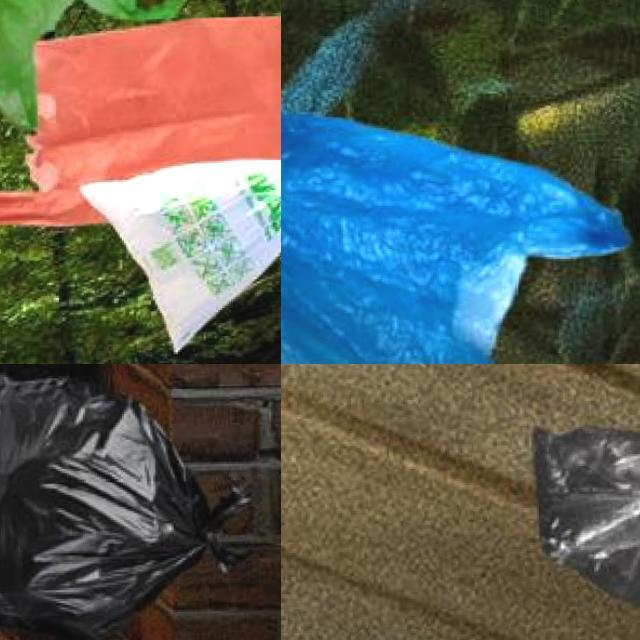waste: (281, 92, 632, 364), (0, 364, 232, 640), (80, 154, 281, 353), (0, 0, 187, 112), (541, 418, 640, 626)
